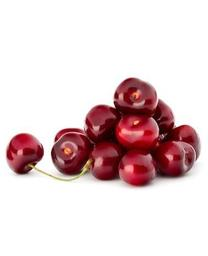cherry: (50, 131, 94, 174), (113, 77, 158, 118), (153, 139, 196, 180), (114, 114, 161, 150), (6, 133, 44, 175), (117, 149, 155, 187), (85, 104, 119, 144), (163, 126, 201, 161), (89, 144, 122, 180)
